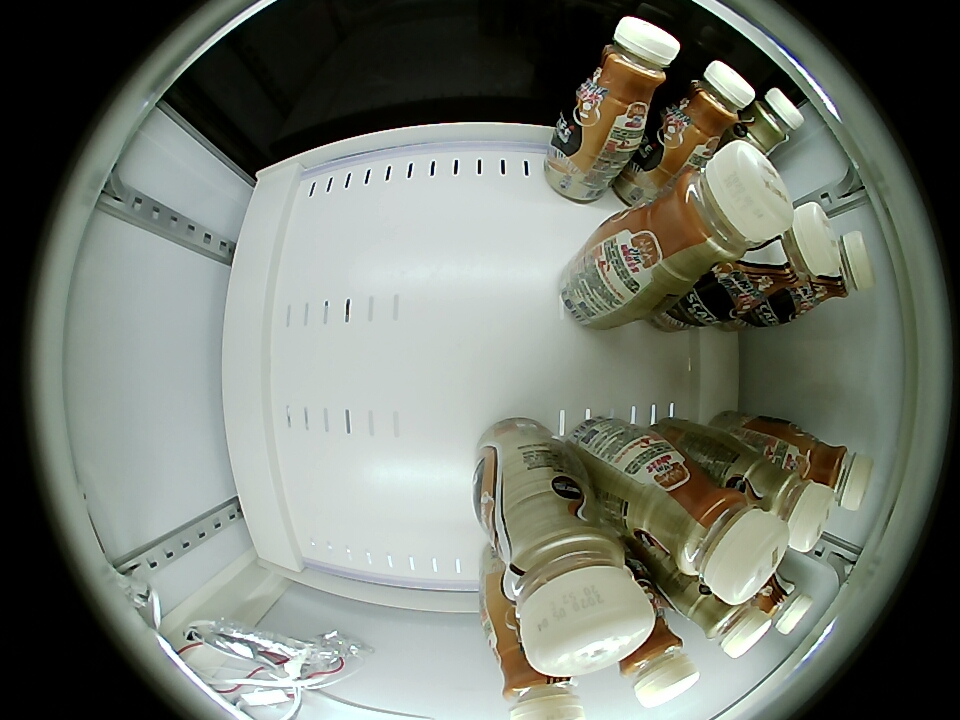kafei: (482, 482, 656, 678), (638, 458, 787, 608), (645, 141, 794, 280), (728, 201, 849, 317), (571, 16, 680, 126), (739, 456, 833, 551), (661, 59, 756, 152), (671, 576, 771, 659), (613, 619, 699, 708), (496, 643, 588, 720), (792, 230, 875, 315), (787, 430, 872, 509), (733, 87, 804, 157), (746, 568, 812, 634)
